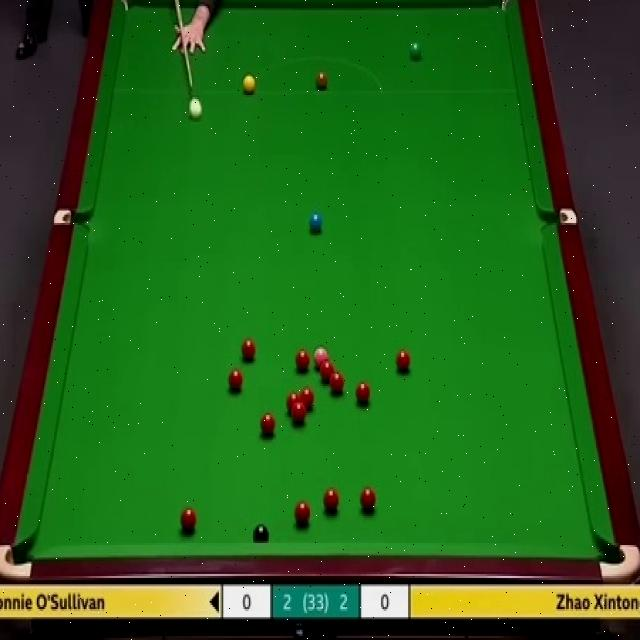black-ball: (255, 523, 272, 543)
blue-ball: (309, 214, 323, 231)
brown-ball: (315, 72, 329, 95)
green-ball: (410, 42, 420, 56)
pink-ball: (314, 347, 328, 367)
red-ball: (299, 387, 316, 414), (179, 507, 197, 532), (324, 484, 339, 514), (294, 501, 311, 527), (263, 412, 279, 437), (396, 347, 411, 372), (361, 488, 377, 511), (228, 371, 244, 392), (242, 338, 255, 363), (292, 403, 306, 425), (330, 374, 343, 396), (294, 350, 308, 370), (286, 393, 300, 413), (320, 360, 334, 380), (355, 384, 370, 402)
white-ball: (187, 96, 205, 119)
yellow-ball: (243, 74, 255, 96)
